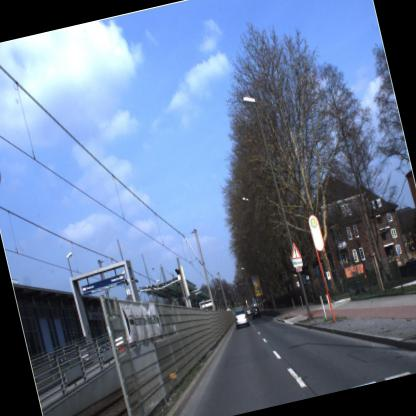danger: (284, 236, 306, 266)
